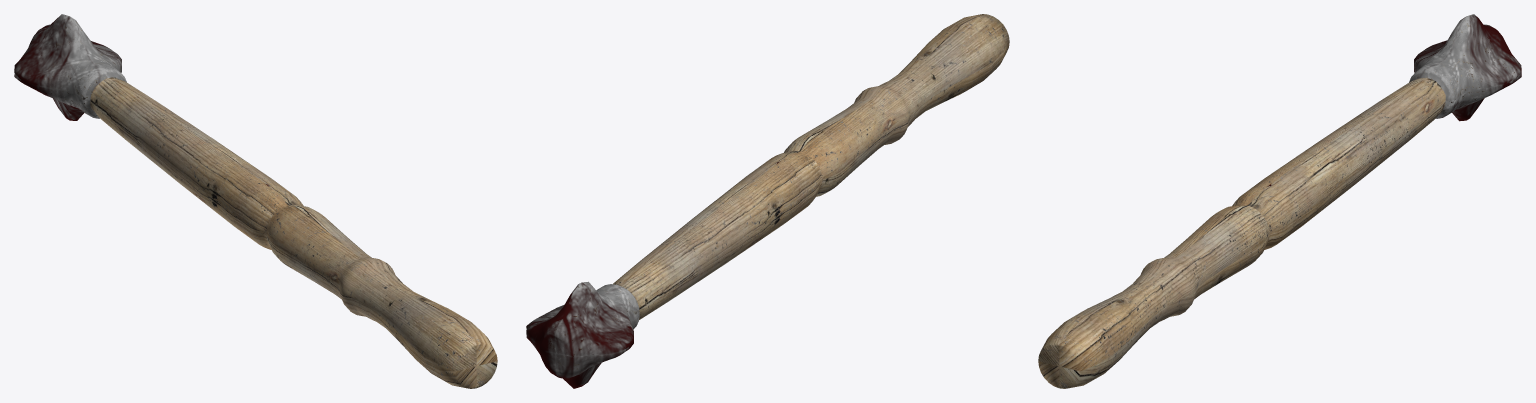
Rendered from mace.fbx.
The picture shows the model from 3 angles, left to right: view 1: azimuth 30°, elevation 25°; view 2: azimuth 150°, elevation 25°; view 3: azimuth 330°, elevation 25°; orthographic projection.
Visible parts, largest first — view 1: Vert; view 2: Vert; view 3: Vert.
Boxes of the visible parts, bbox=[...] form: Vert: bbox=[14, 14, 497, 388]; Vert: bbox=[526, 14, 1009, 388]; Vert: bbox=[1038, 14, 1521, 388].
Size of the model in its own units: 15.85 by 16.26 by 122.
